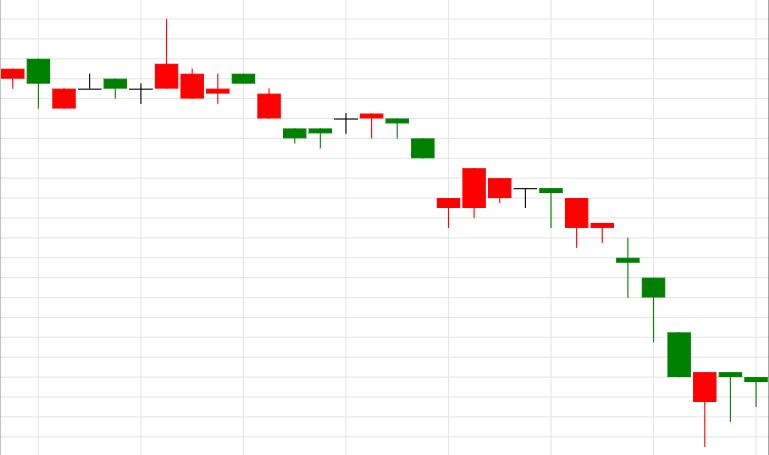hammer_rise: (540, 188, 717, 448)
